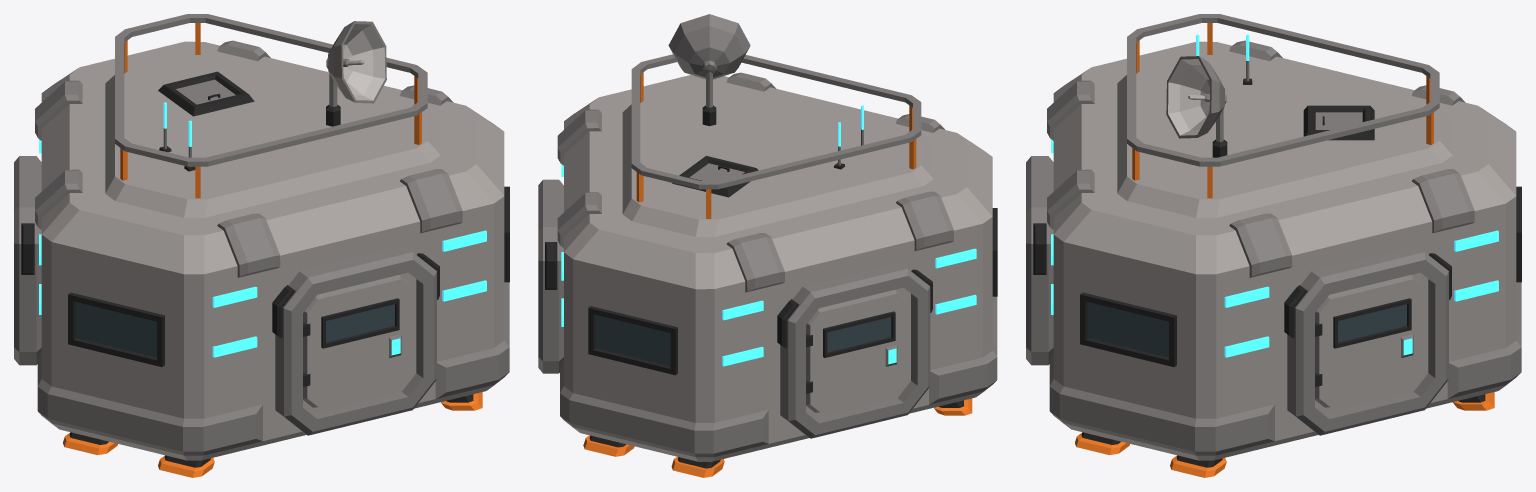
Rendered from scifi_scifi-planet-base-connector-tri.fbx.
3 views of the same model, side by side, from view 1: azimuth 30°, elevation 25°; view 2: azimuth 150°, elevation 25°; view 3: azimuth 270°, elevation 25° (orthographic). The views are drawn at different scales.
Visible parts, largest first — view 1: scifi_scifi_planet_base_connector_tri; view 2: scifi_scifi_planet_base_connector_tri; view 3: scifi_scifi_planet_base_connector_tri.
Boxes of the visible parts, bbox=[...] form: scifi_scifi_planet_base_connector_tri: bbox=[14, 14, 509, 477]; scifi_scifi_planet_base_connector_tri: bbox=[538, 14, 997, 477]; scifi_scifi_planet_base_connector_tri: bbox=[1026, 14, 1521, 477].
Bounding box in the file's own units: 200 × 148 × 186.
